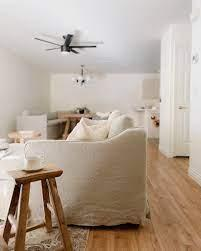chair: (2, 163, 75, 251)
door: (174, 32, 193, 157)
fan: (25, 25, 100, 58)
light: (67, 63, 99, 91)
sofa: (1, 106, 148, 229), (19, 105, 91, 135)
table: (58, 110, 92, 140), (8, 130, 41, 145)
